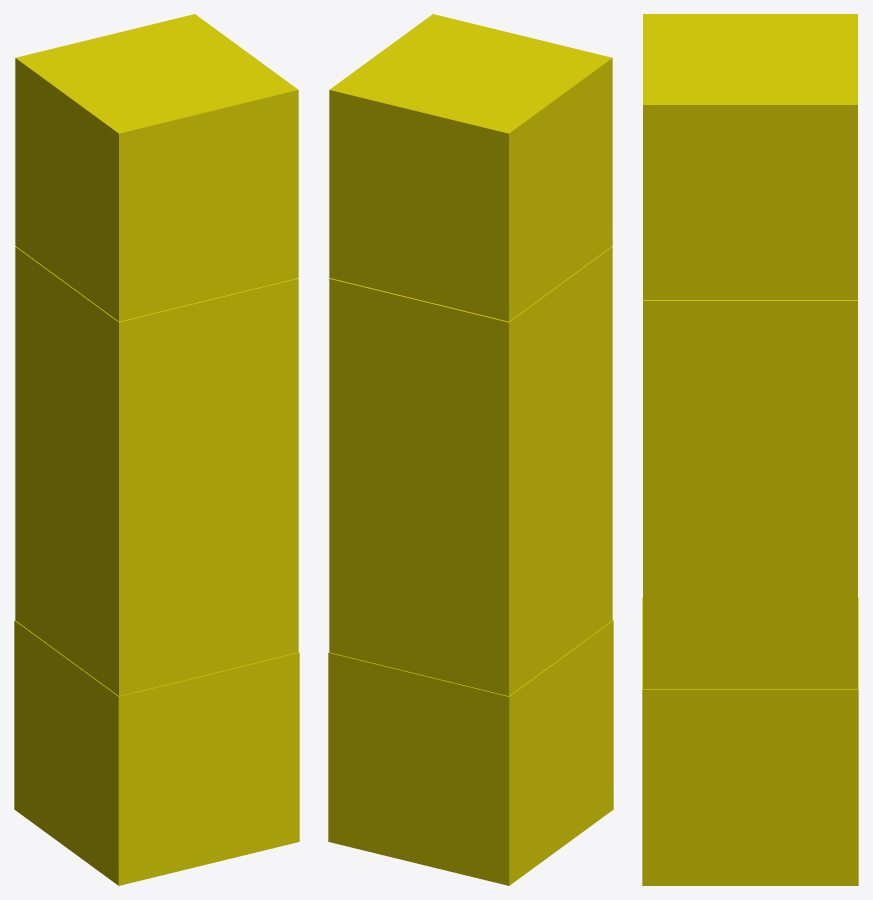
File: tetris1-glb.glb
The picture shows the model from 3 angles, left to right: view 1: azimuth 30°, elevation 25°; view 2: azimuth 150°, elevation 25°; view 3: azimuth 270°, elevation 25°; orthographic projection. The views are drawn at different scales.
Parts seen in each view (by area): view 1: node_id21, node_id6, node_id13, node_id17; view 2: node_id21, node_id6, node_id13, node_id17; view 3: node_id21, node_id6, node_id13, node_id17.
Part boxes in pixels (bbox=[...]): node_id21: bbox=[15, 14, 298, 321]; node_id6: bbox=[14, 620, 299, 885]; node_id13: bbox=[15, 432, 298, 695]; node_id17: bbox=[15, 246, 298, 507]; node_id21: bbox=[329, 14, 612, 321]; node_id6: bbox=[328, 620, 613, 885]; node_id13: bbox=[329, 432, 612, 695]; node_id17: bbox=[329, 246, 612, 509]; node_id21: bbox=[643, 14, 857, 299]; node_id6: bbox=[642, 598, 858, 885]; node_id13: bbox=[643, 494, 857, 688]; node_id17: bbox=[643, 300, 857, 496].
Bounding box in the file's own units: 0.1175 × 0.4671 × 0.1175.
Materials: 4 (4 with a texture image).
